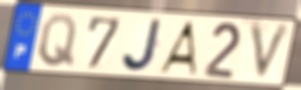2: (203, 21, 241, 80)
7: (85, 16, 123, 71)
A: (156, 20, 198, 77)
J: (120, 17, 166, 74)
Q: (36, 12, 79, 69)
V: (248, 20, 294, 84)
